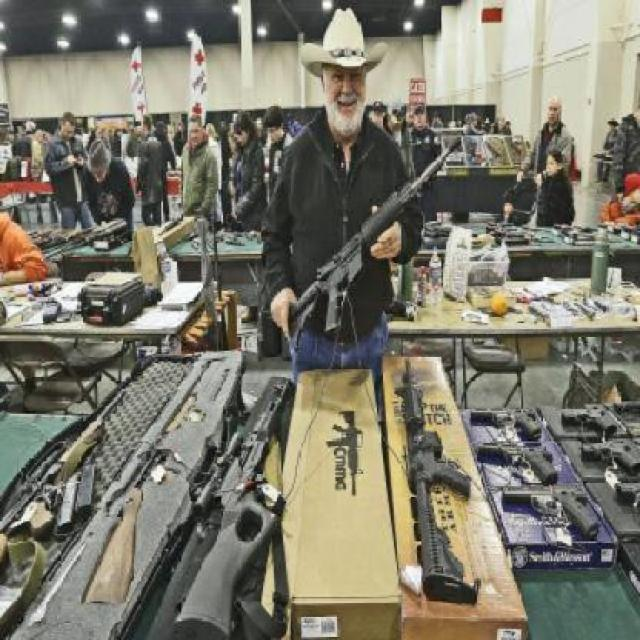gun: (262, 130, 469, 347), (384, 352, 486, 610), (494, 485, 606, 548), (472, 433, 570, 483), (461, 398, 543, 436), (572, 439, 640, 483), (556, 401, 630, 435)
